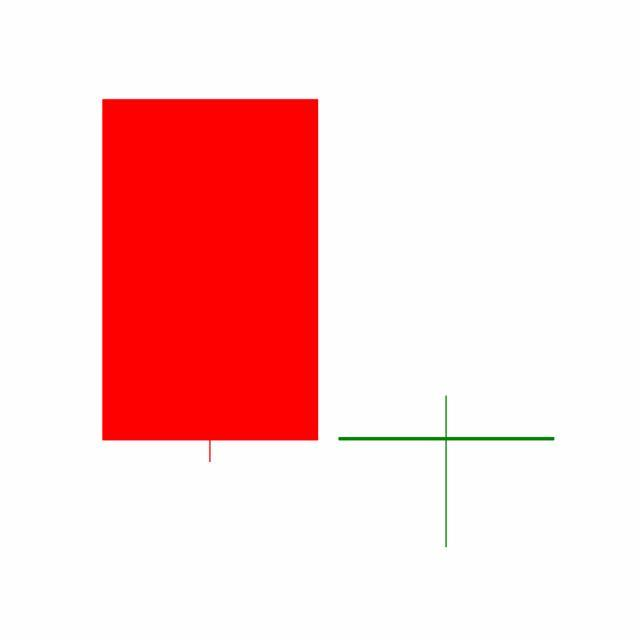Spinning Top: (328, 394, 566, 549)
